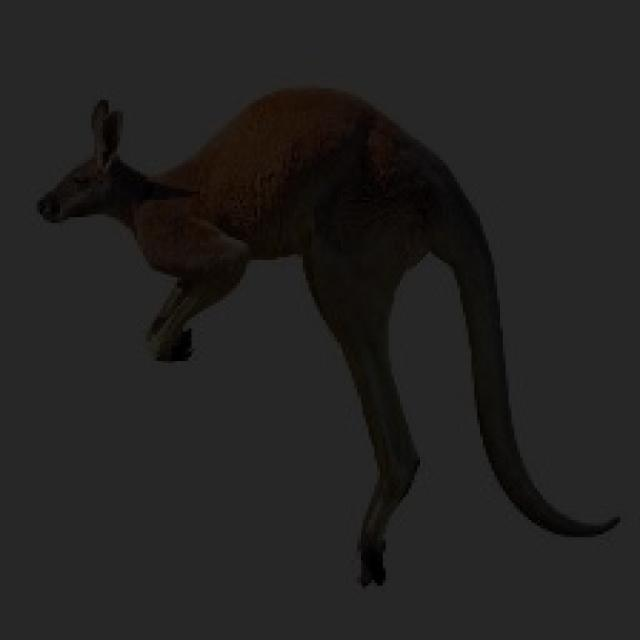animal: (33, 66, 626, 603)
